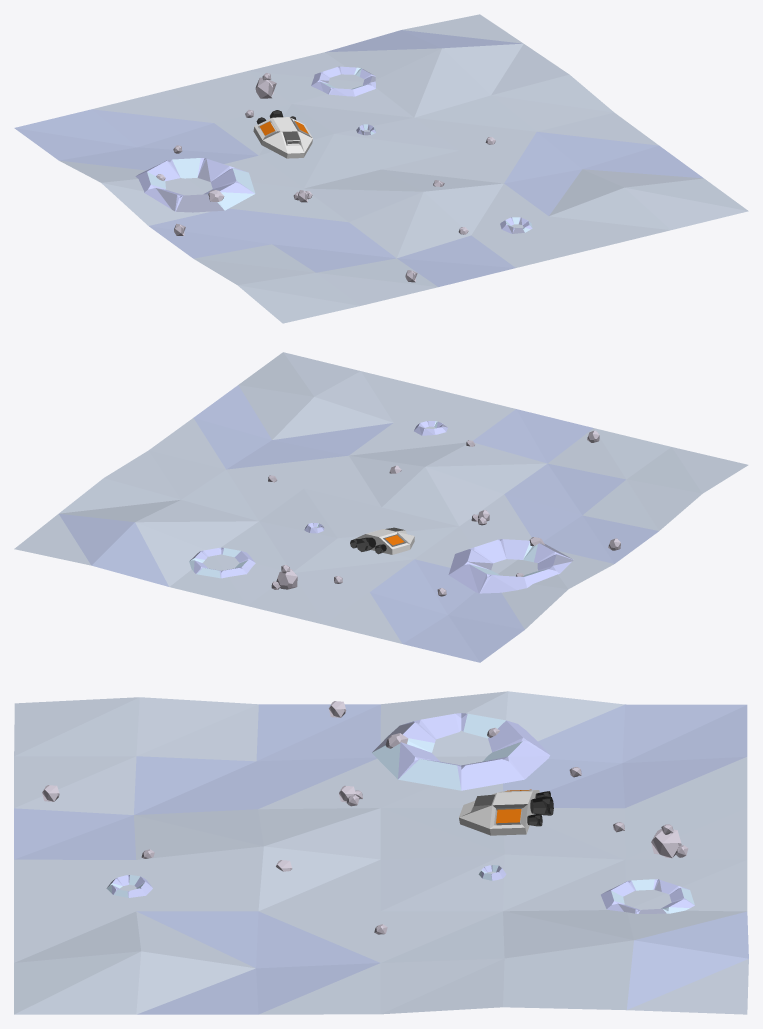
File: moon.glb
3 renders of one model, top to bottom at view 1: azimuth 30°, elevation 25°; view 2: azimuth 150°, elevation 25°; view 3: azimuth 270°, elevation 25°, orthographic. The views are drawn at different scales.
Parts seen in each view (by area): view 1: Ground, Craters, Body, Craters.004; view 2: Ground, Craters, Craters.004, Body; view 3: Ground, Craters, Body, Craters.004, Craters.001, Rock.004.
Part boxes in pixels (x1=…): Ground: x1=14, y1=14, x2=748, y2=323; Craters: x1=135, y1=158, x2=255, y2=212; Body: x1=253, y1=117, x2=312, y2=158; Craters.004: x1=311, y1=66, x2=375, y2=96; Ground: x1=14, y1=352, x2=748, y2=662; Craters: x1=448, y1=539, x2=573, y2=593; Craters.004: x1=189, y1=547, x2=255, y2=578; Body: x1=353, y1=527, x2=414, y2=554; Ground: x1=14, y1=691, x2=748, y2=1014; Craters: x1=372, y1=713, x2=550, y2=790; Body: x1=459, y1=789, x2=539, y2=835; Craters.004: x1=601, y1=879, x2=694, y2=913; Craters.001: x1=106, y1=875, x2=152, y2=897; Rock.004: x1=651, y1=829, x2=681, y2=858.
Size of the model in its own units: 20.03 by 1.21 by 20.05.
